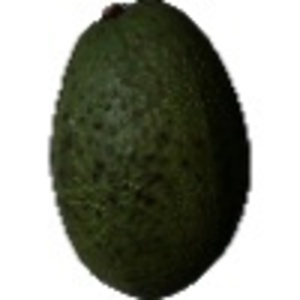abacate: (48, 1, 251, 299)
